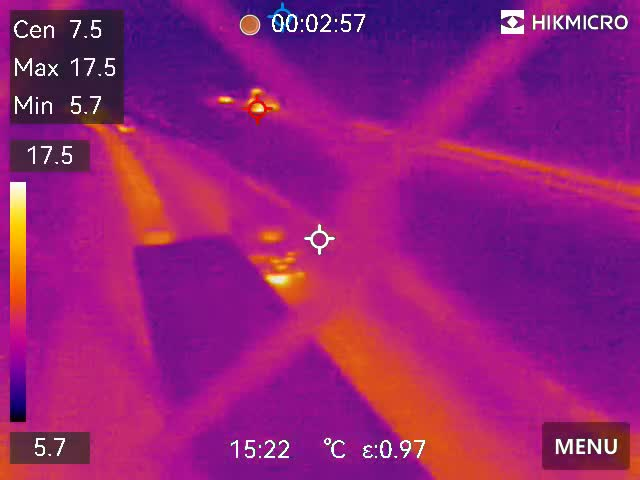heavyTruck: (132, 236, 421, 480)
